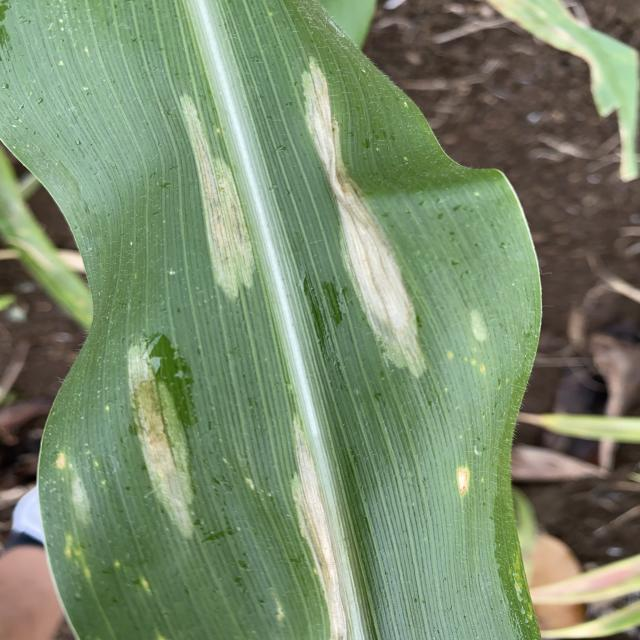Corn_Leaf_Blight: (35, 0, 542, 640)
